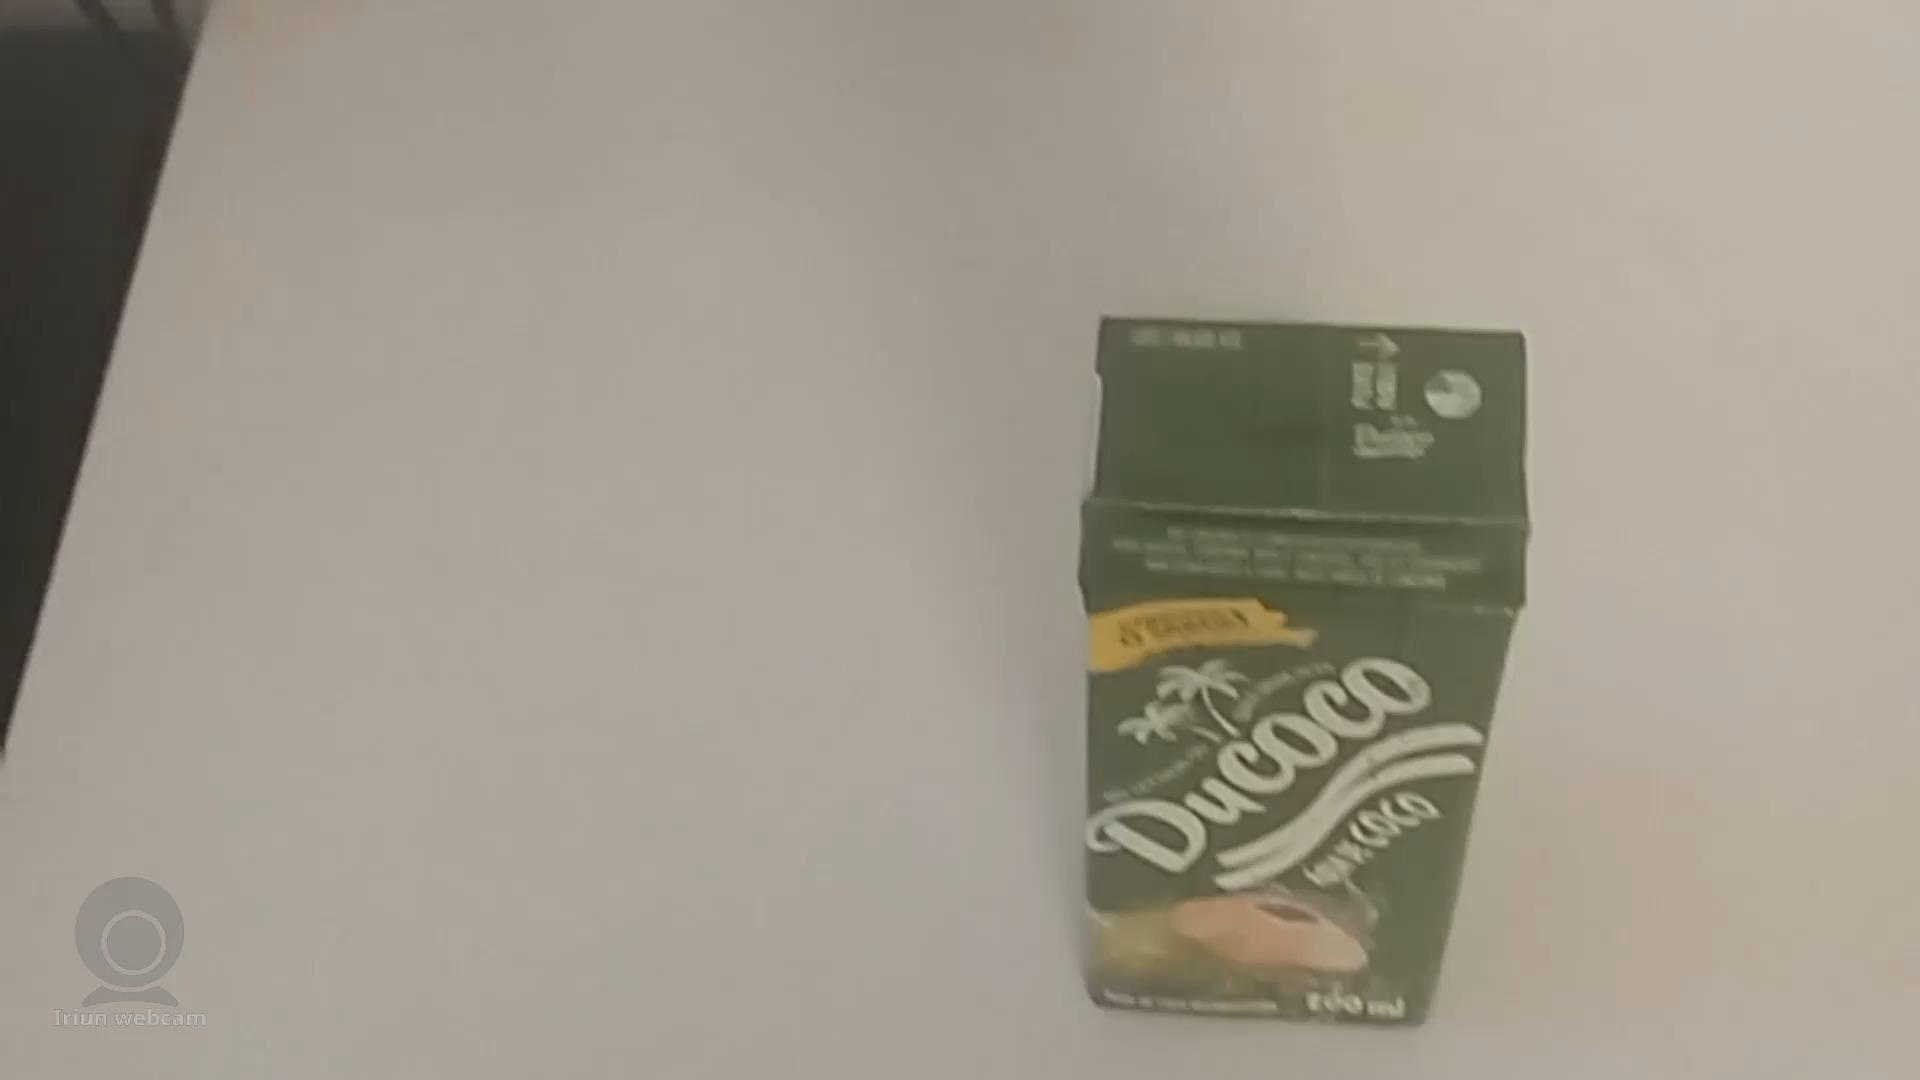coco: (1080, 314, 1531, 1038)
